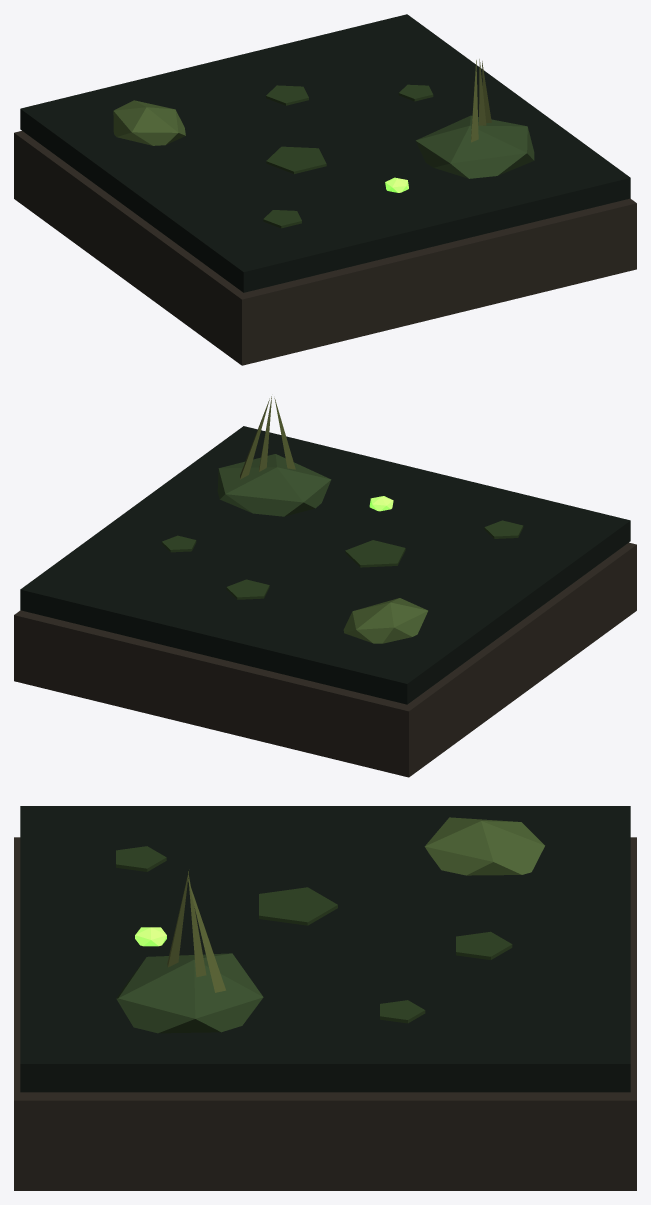
File: obj_bog.glb
The picture shows the model from 3 angles, top to bottom: view 1: azimuth 30°, elevation 25°; view 2: azimuth 150°, elevation 25°; view 3: azimuth 270°, elevation 25°; orthographic projection. The views are drawn at different scales.
Parts seen in each view (by area): view 1: obj_bog; view 2: obj_bog; view 3: obj_bog.
Boxes of the visible parts, left/top/right/bottom form: obj_bog: left=14, top=14, right=636, bottom=365; obj_bog: left=14, top=396, right=636, bottom=777; obj_bog: left=14, top=806, right=636, bottom=1190.
Bounding box in the file's own units: 1 × 0.4582 × 1.
